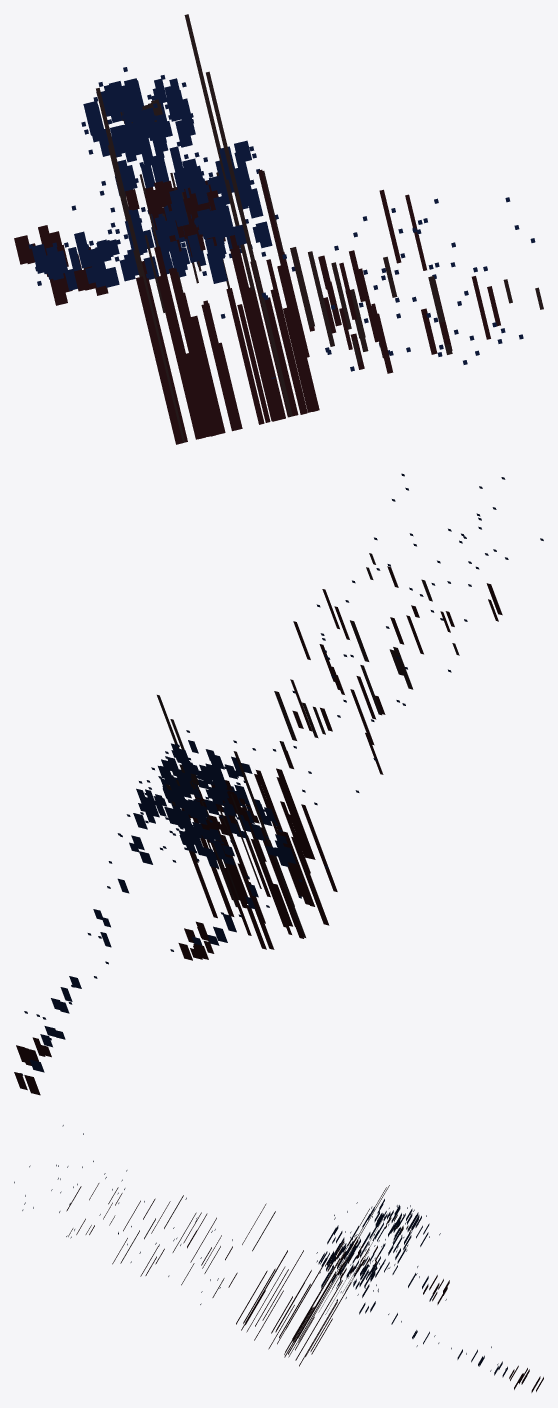
The model's file is black_ice_hound.glb.
3 renders of one model, top to bottom at view 1: azimuth 30°, elevation 25°; view 2: azimuth 150°, elevation 25°; view 3: azimuth 270°, elevation 25°, orthographic. The views are drawn at different scales.
Parts seen in each view (by area): view 1: black_ice_hound_inner, black_ice_hound_shell, black_ice_hound_dust; view 2: black_ice_hound_inner, black_ice_hound_shell, black_ice_hound_dust; view 3: black_ice_hound_inner, black_ice_hound_shell, black_ice_hound_dust.
Boxes of the visible parts, bbox=[...] form: black_ice_hound_inner: bbox=[14, 14, 543, 444]; black_ice_hound_shell: bbox=[32, 78, 272, 290]; black_ice_hound_dust: bbox=[28, 67, 535, 378]; black_ice_hound_inner: bbox=[14, 553, 502, 1095]; black_ice_hound_shell: bbox=[29, 740, 296, 1072]; black_ice_hound_dust: bbox=[20, 473, 543, 1075]; black_ice_hound_inner: bbox=[66, 1183, 543, 1392]; black_ice_hound_shell: bbox=[318, 1199, 526, 1383]; black_ice_hound_dust: bbox=[14, 1125, 536, 1383].
Size of the model in its own units: 1.41 by 2.46 by 4.99.
